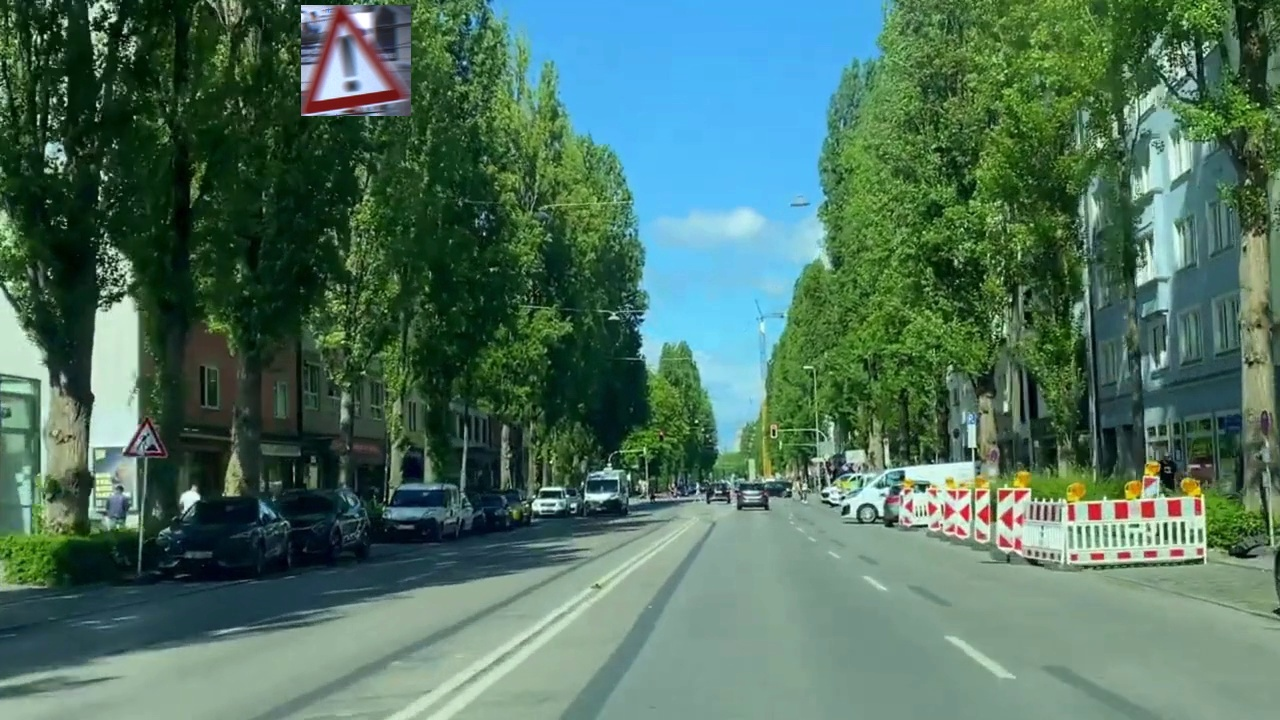Caution: (301, 5, 411, 116)
